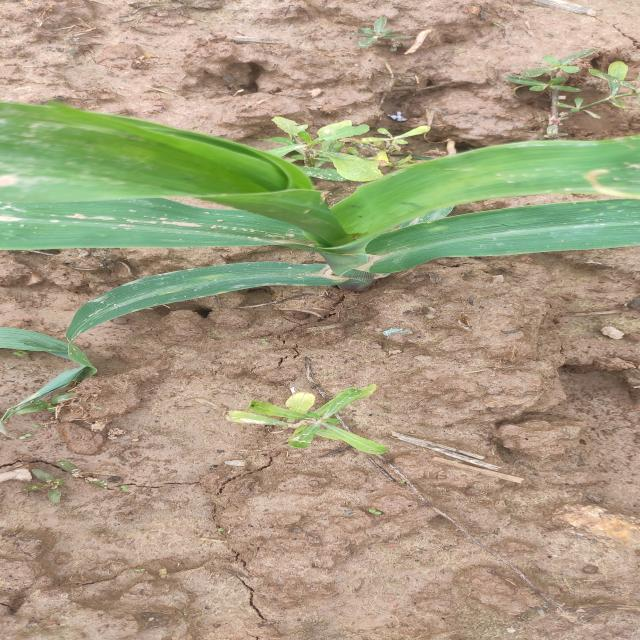maize: (0, 109, 640, 358)
weed: (217, 375, 415, 468), (234, 106, 432, 174), (475, 41, 640, 92), (310, 21, 448, 46)
